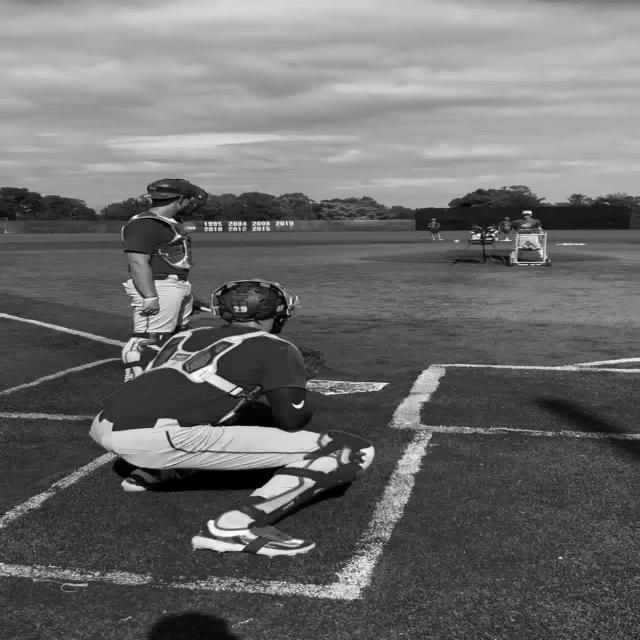base: (299, 379, 390, 398)
baseball: (453, 239, 459, 243)
shoe: (190, 518, 316, 558), (120, 468, 188, 492)
